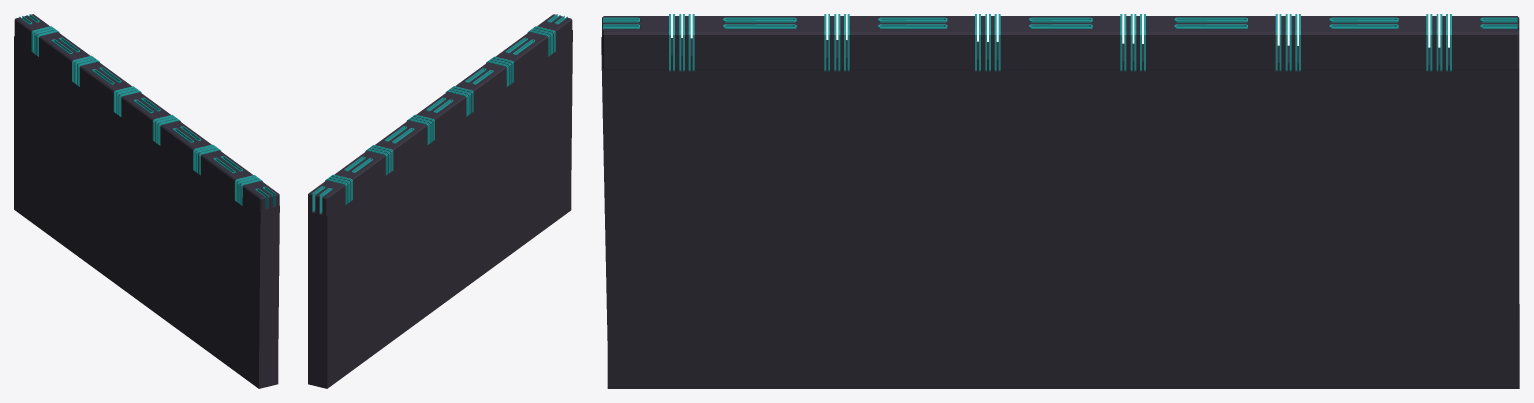
Rendered from ramp hor.fbx.
The picture shows the model from 3 angles, left to right: view 1: azimuth 30°, elevation 25°; view 2: azimuth 150°, elevation 25°; view 3: azimuth 270°, elevation 25°; orthographic projection. The views are drawn at different scales.
Parts seen in each view (by area): view 1: polySurface1525; view 2: polySurface1525; view 3: polySurface1525.
Part boxes in pixels (bbox=[...]): polySurface1525: bbox=[14, 14, 279, 388]; polySurface1525: bbox=[308, 14, 572, 388]; polySurface1525: bbox=[601, 14, 1519, 388].
Size of the model in its own units: 29.86 by 257 by 597.
